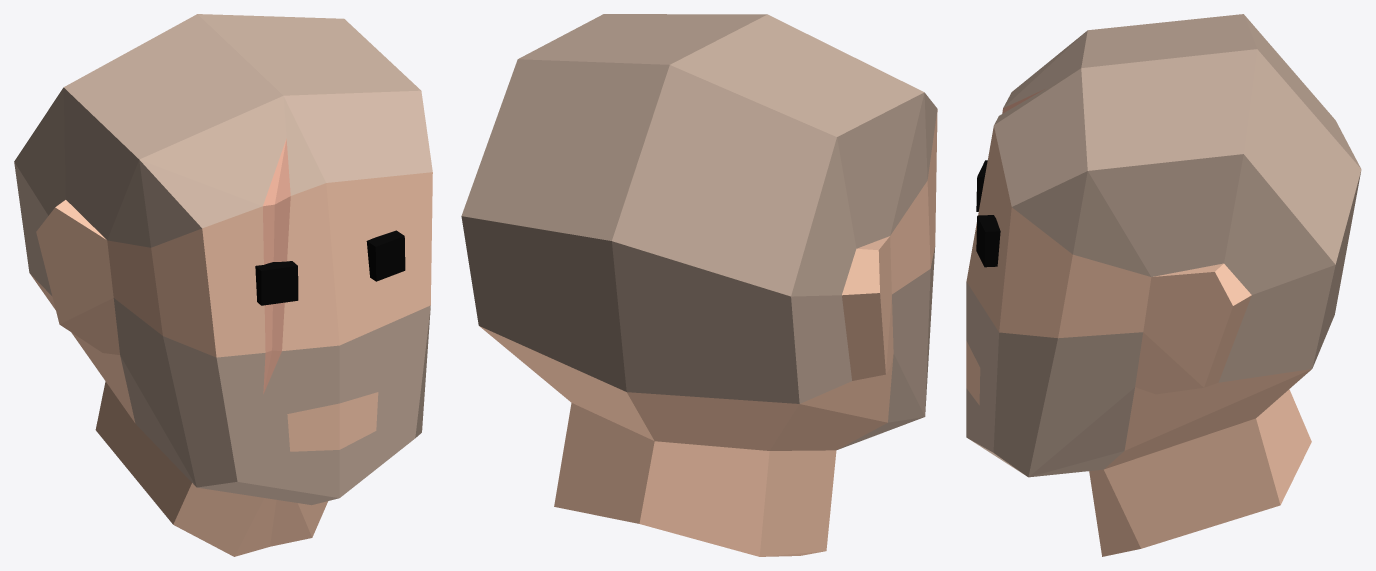
The model's file is Chr_Head_Male_06_Static.fbx.
The picture shows the model from 3 angles, left to right: view 1: azimuth 30°, elevation 25°; view 2: azimuth 150°, elevation 25°; view 3: azimuth 270°, elevation 25°; orthographic projection. The views are drawn at different scales.
Parts seen in each view (by area): view 1: Chr_Head_Male_06_Static; view 2: Chr_Head_Male_06_Static; view 3: Chr_Head_Male_06_Static.
Part boxes in pixels (box(x1,y1,x2,y2)): Chr_Head_Male_06_Static: box(14, 14, 432, 556); Chr_Head_Male_06_Static: box(461, 14, 937, 556); Chr_Head_Male_06_Static: box(966, 14, 1361, 556).
Bounding box in the file's own units: 0.2661 × 0.3523 × 0.2574.
